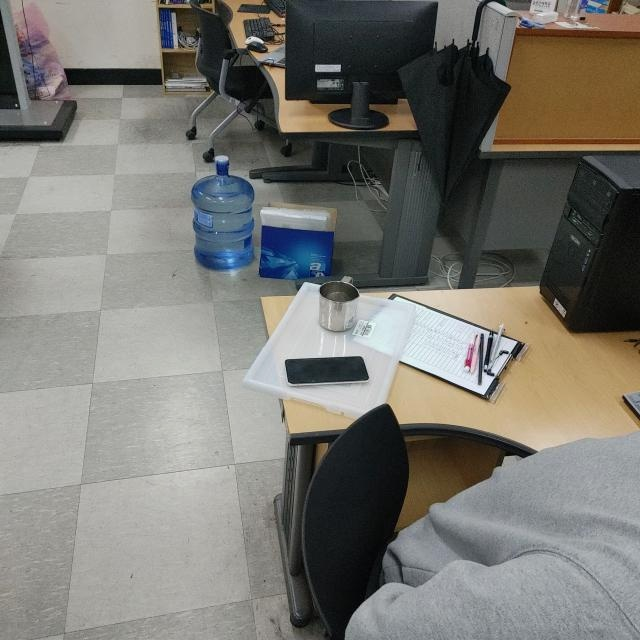cup: (317, 274, 362, 334)
phone: (285, 356, 370, 385)
